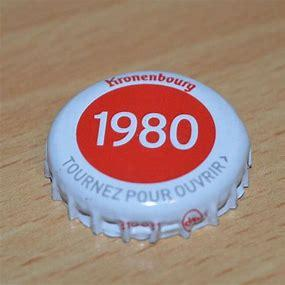metal: (45, 71, 253, 242)
